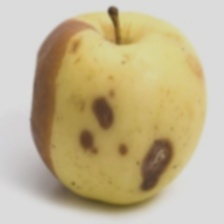apple: (30, 42, 205, 192)
